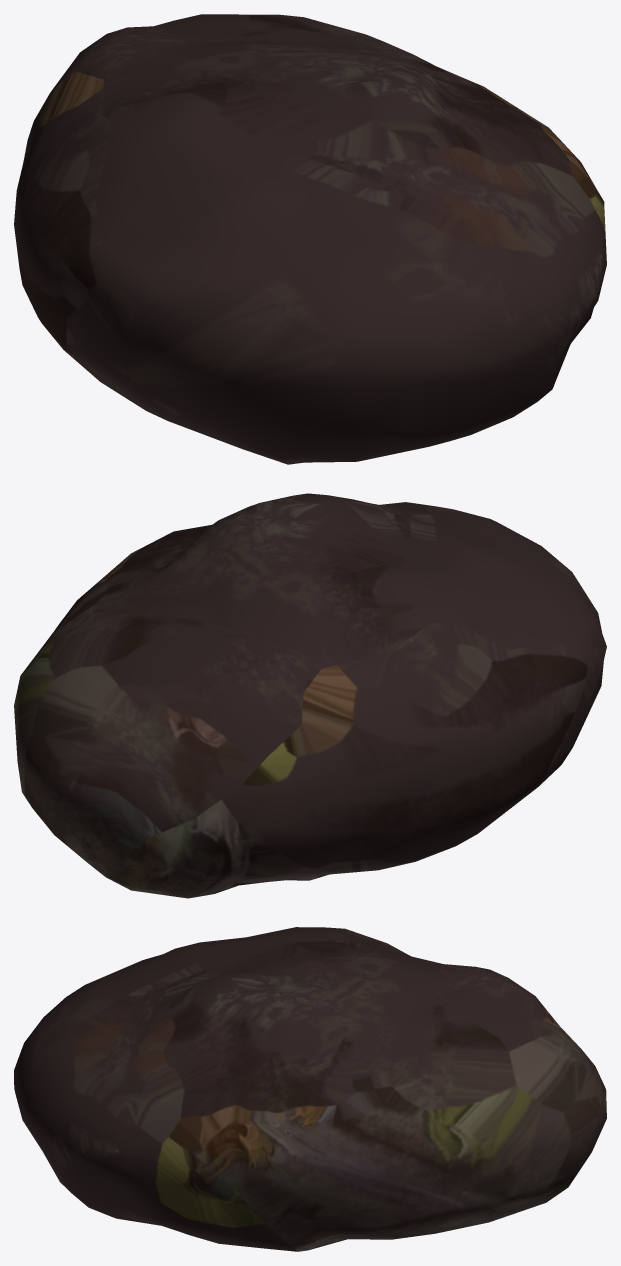
Rendered from rock_med_02.fbx.
3 views of the same model, one above another, from view 1: azimuth 30°, elevation 25°; view 2: azimuth 150°, elevation 25°; view 3: azimuth 270°, elevation 25° (orthographic). The views are drawn at different scales.
Visible parts, largest first — view 1: Mesh; view 2: Mesh; view 3: Mesh.
Part boxes in pixels (bbox=[...]): Mesh: bbox=[14, 14, 606, 464]; Mesh: bbox=[14, 493, 606, 898]; Mesh: bbox=[14, 927, 606, 1251].
Size of the model in its own units: 52.99 by 30.48 by 67.83.
